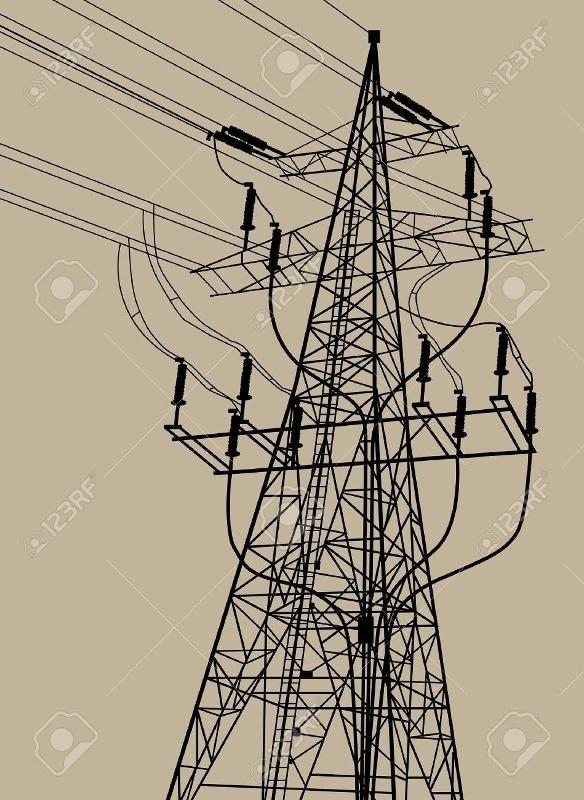power_tower: (180, 35, 509, 682)
